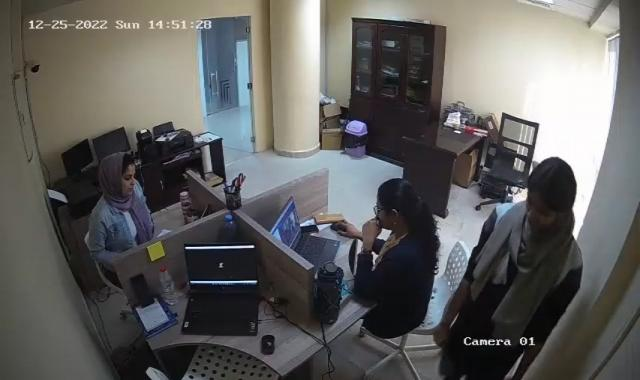no_hairnet: (529, 158, 576, 221), (377, 177, 420, 228), (96, 151, 138, 197)
